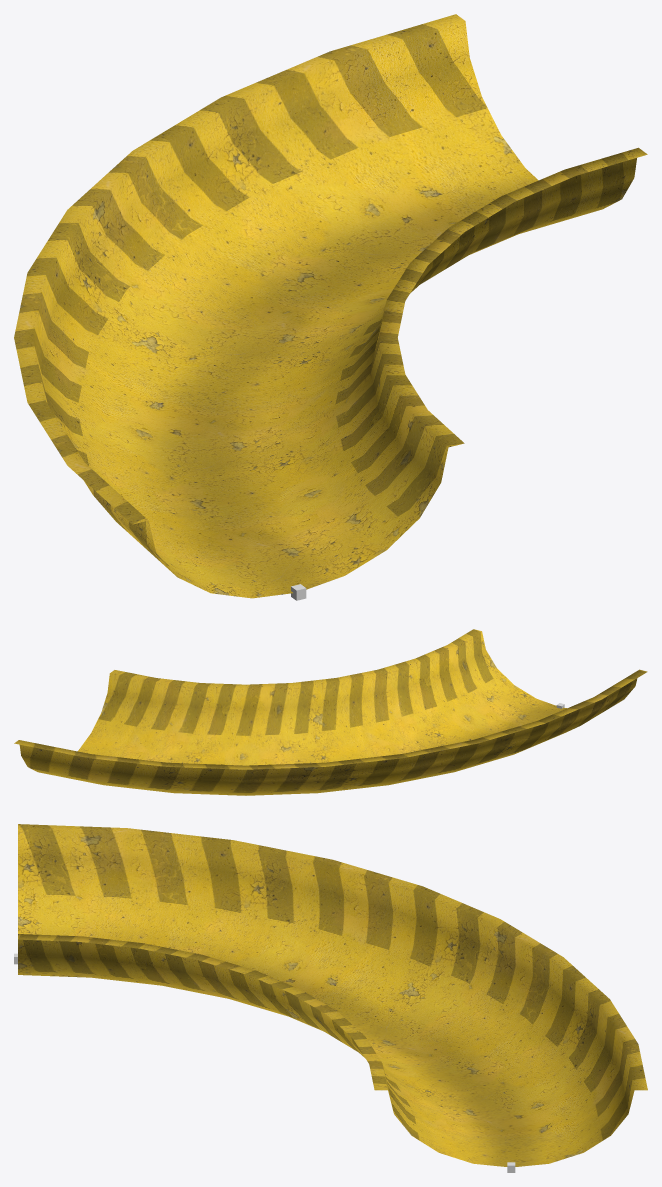
Rendered from roadBend90.R.fbx.
The picture shows the model from 3 angles, top to bottom: view 1: azimuth 30°, elevation 25°; view 2: azimuth 150°, elevation 25°; view 3: azimuth 270°, elevation 25°; orthographic projection. The views are drawn at different scales.
Visible parts, largest first — view 1: MESH roadBend90.R; view 2: MESH roadBend90.R; view 3: MESH roadBend90.R.
Boxes of the visible parts, left/top/right/bottom form: MESH roadBend90.R: left=14, top=14, right=647, bottom=598; MESH roadBend90.R: left=14, top=629, right=647, bottom=795; MESH roadBend90.R: left=18, top=824, right=647, bottom=1166.
Size of what is drawn, in the model's own units: 3928 by 553 by 3928.
